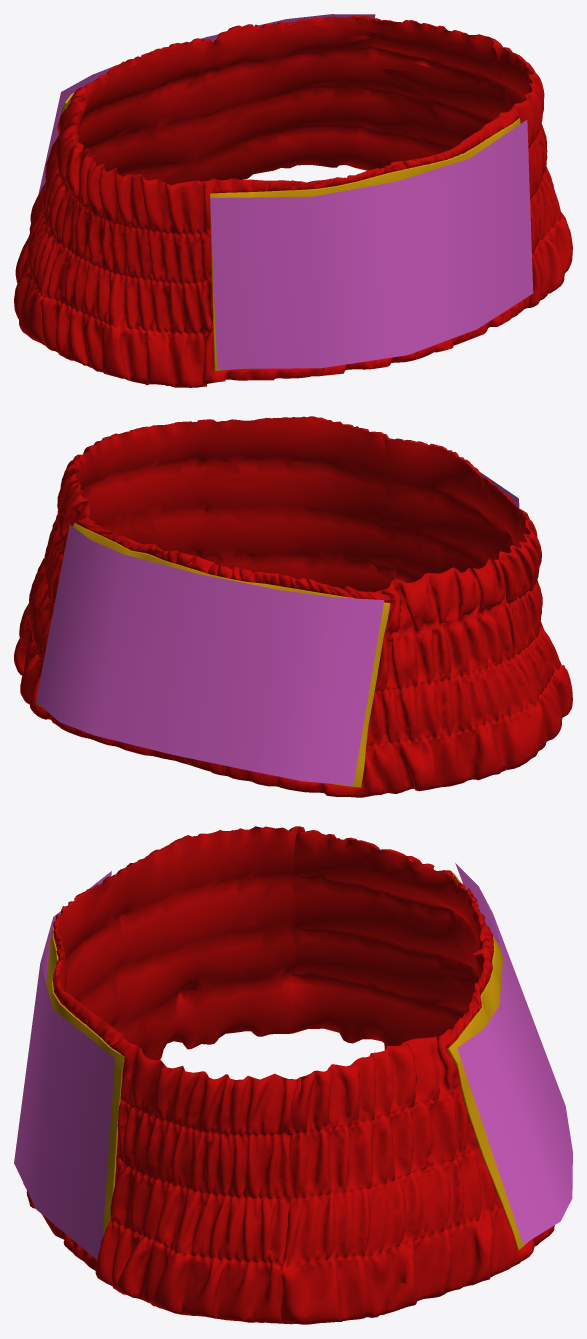
Rendered from WAIST_5_inch_waist.glb.
3 views of the same model, one above another, from view 1: azimuth 30°, elevation 25°; view 2: azimuth 150°, elevation 25°; view 3: azimuth 270°, elevation 25° (orthographic). The views are drawn at different scales.
Parts seen in each view (by area): view 1: BX_0_WAIST_5_inch_waist, BX_0_WAIST_5_inch_waist_OVER, BX_0_WAIST_5_inch_waist_logo; view 2: BX_0_WAIST_5_inch_waist, BX_0_WAIST_5_inch_waist_OVER, BX_0_WAIST_5_inch_waist_logo; view 3: BX_0_WAIST_5_inch_waist, BX_0_WAIST_5_inch_waist_OVER, BX_0_WAIST_5_inch_waist_logo.
Boxes of the visible parts, left/top/right/bottom form: BX_0_WAIST_5_inch_waist: left=14, top=15, right=572, bottom=387; BX_0_WAIST_5_inch_waist_OVER: left=38, top=14, right=533, bottom=368; BX_0_WAIST_5_inch_waist_logo: left=61, top=18, right=520, bottom=371; BX_0_WAIST_5_inch_waist: left=14, top=416, right=572, bottom=797; BX_0_WAIST_5_inch_waist_OVER: left=36, top=438, right=519, bottom=785; BX_0_WAIST_5_inch_waist_logo: left=36, top=523, right=390, bottom=787; BX_0_WAIST_5_inch_waist: left=23, top=826, right=554, bottom=1324; BX_0_WAIST_5_inch_waist_OVER: left=14, top=863, right=572, bottom=1259; BX_0_WAIST_5_inch_waist_logo: left=46, top=870, right=529, bottom=1250.
Bounding box in the file's own units: 3.81 × 1.42 × 2.98.
